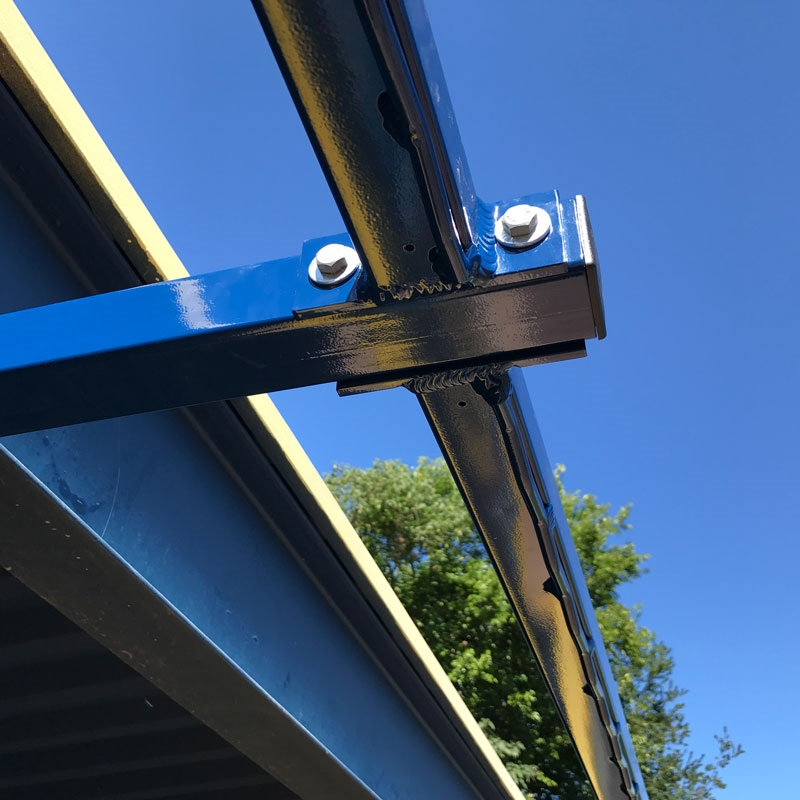vague: (502, 201, 540, 237), (314, 239, 349, 276)
